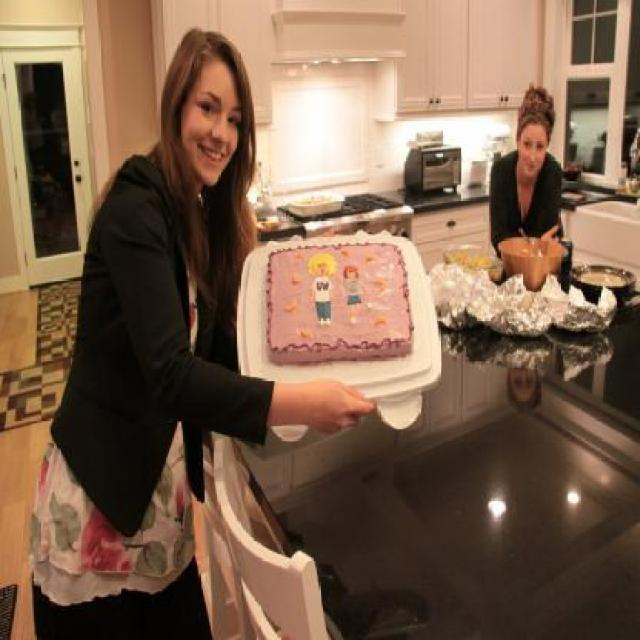Cake: (266, 240, 414, 362)
